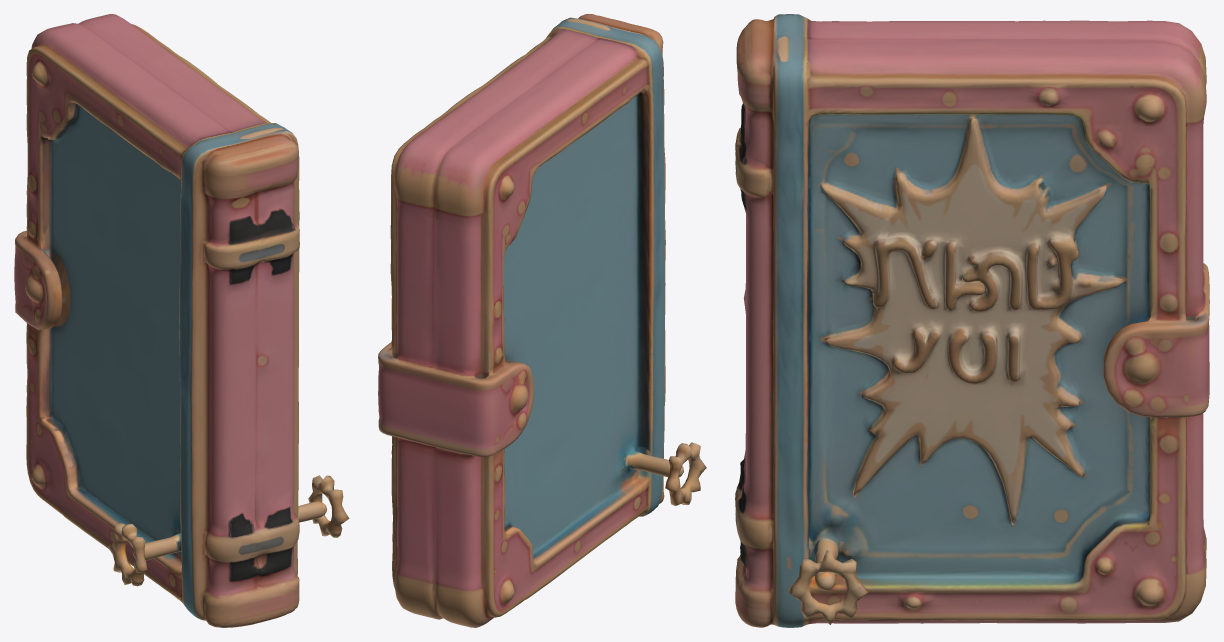
File: Diary Entry.fbx
The picture shows the model from 3 angles, left to right: view 1: azimuth 30°, elevation 25°; view 2: azimuth 150°, elevation 25°; view 3: azimuth 270°, elevation 25°; orthographic projection. The views are drawn at different scales.
Visible parts, largest first — view 1: tripo_node_d29dcd62; view 2: tripo_node_d29dcd62; view 3: tripo_node_d29dcd62.
Part boxes in pixels (x1,y1,x2,y2): tripo_node_d29dcd62: [14, 14, 349, 627]; tripo_node_d29dcd62: [378, 14, 706, 627]; tripo_node_d29dcd62: [735, 14, 1209, 627].
Bounding box in the file's own units: 46.44 × 99.78 × 74.81.
1 material, 1 textured.
